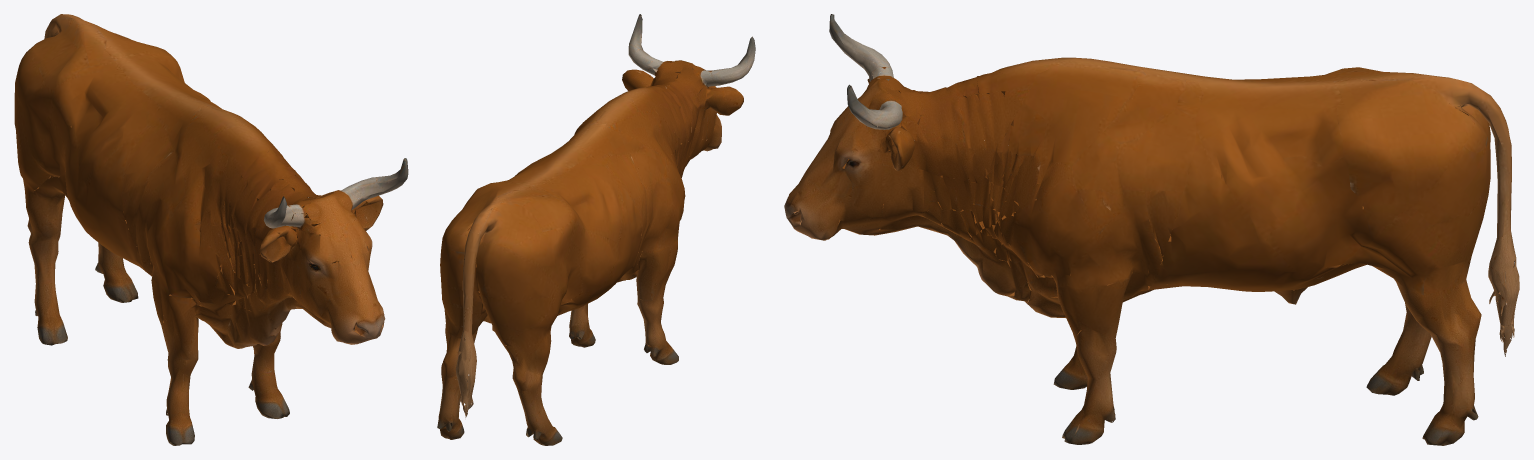
The model's file is stier.glb.
The picture shows the model from 3 angles, left to right: view 1: azimuth 30°, elevation 25°; view 2: azimuth 150°, elevation 25°; view 3: azimuth 270°, elevation 25°; orthographic projection. The views are drawn at different scales.
Size of the model in its own units: 0.5311 by 1.06 by 1.9.
Materials: 1 (1 with a texture image).
